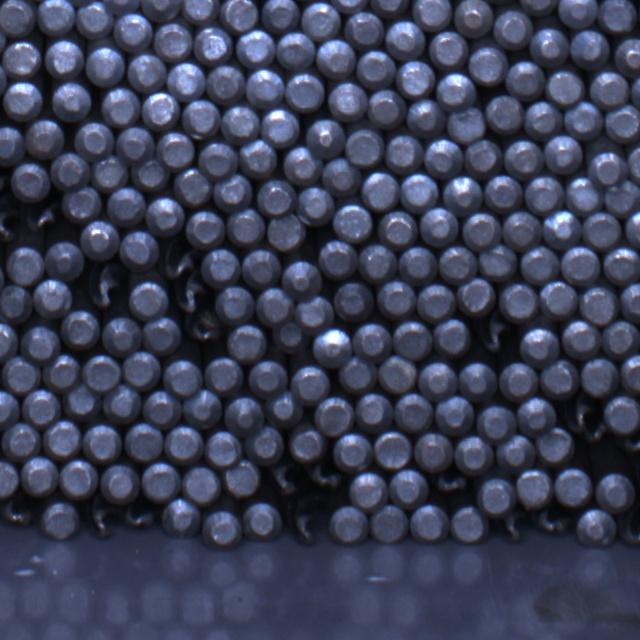tool: (571, 29, 612, 70), (20, 454, 60, 496), (280, 259, 322, 299), (560, 246, 600, 287), (142, 461, 182, 502), (99, 463, 139, 504), (24, 118, 64, 159), (101, 316, 142, 356), (312, 326, 352, 367), (418, 360, 458, 401), (335, 280, 375, 321), (52, 82, 93, 122), (441, 174, 482, 214), (506, 61, 546, 101), (106, 185, 146, 225), (578, 285, 618, 325), (154, 20, 194, 60), (504, 210, 544, 250), (80, 220, 120, 260), (529, 26, 569, 66), (282, 146, 322, 186), (82, 424, 122, 464), (226, 396, 266, 436), (129, 278, 169, 318), (228, 322, 268, 362), (121, 230, 161, 270), (330, 79, 370, 119), (392, 320, 432, 360), (419, 206, 459, 246), (333, 201, 373, 241), (385, 20, 425, 60), (524, 175, 564, 215), (362, 170, 402, 210), (378, 208, 418, 248), (414, 432, 454, 472), (76, 120, 116, 160), (500, 362, 540, 402), (86, 46, 126, 86), (60, 310, 100, 350), (409, 503, 449, 543), (11, 161, 51, 201), (2, 81, 42, 121), (437, 71, 477, 111), (540, 278, 580, 318), (388, 468, 428, 508), (200, 248, 240, 288), (454, 436, 494, 476), (435, 395, 475, 435), (519, 326, 559, 366), (45, 39, 85, 79), (323, 157, 363, 197), (577, 508, 617, 548), (424, 136, 463, 177), (458, 361, 497, 402), (306, 116, 344, 158), (519, 245, 559, 284), (579, 357, 618, 397), (162, 358, 202, 397), (396, 393, 435, 433), (122, 349, 162, 388), (83, 351, 123, 390), (402, 171, 441, 211), (302, 0, 342, 39), (261, 108, 300, 148), (314, 397, 354, 436), (43, 420, 82, 460), (386, 134, 425, 174), (469, 45, 508, 85), (345, 126, 384, 166), (187, 208, 227, 247), (500, 282, 540, 321), (541, 359, 580, 399), (505, 137, 544, 177), (485, 93, 524, 133), (368, 88, 407, 128), (457, 278, 497, 317), (495, 9, 534, 49), (544, 135, 583, 175), (350, 471, 389, 511), (564, 177, 604, 216), (184, 390, 224, 429), (183, 465, 222, 505), (356, 50, 395, 90), (206, 65, 245, 105), (377, 278, 416, 318), (352, 322, 391, 362), (563, 318, 602, 358), (244, 424, 283, 464), (41, 500, 80, 540), (334, 433, 374, 472), (236, 28, 276, 67), (318, 39, 358, 78), (430, 29, 470, 68), (161, 497, 201, 536), (515, 397, 555, 436), (248, 68, 286, 109), (554, 465, 592, 506), (212, 174, 253, 212), (596, 471, 634, 512), (61, 184, 102, 222), (291, 364, 330, 403), (124, 421, 163, 460), (181, 99, 220, 138), (164, 425, 203, 464), (463, 212, 502, 251), (3, 422, 42, 461), (115, 13, 154, 52), (127, 52, 166, 91), (42, 351, 81, 390), (373, 429, 412, 468), (408, 97, 447, 136), (223, 105, 262, 144), (440, 244, 479, 283), (524, 99, 563, 138), (285, 72, 324, 111), (34, 278, 73, 317), (101, 86, 140, 125), (202, 509, 241, 548), (60, 458, 98, 498), (46, 241, 84, 281), (242, 248, 280, 288), (377, 354, 417, 392), (195, 24, 233, 64), (565, 100, 605, 138), (590, 71, 630, 109), (477, 404, 517, 442), (276, 33, 316, 71), (51, 152, 91, 190), (20, 324, 60, 362), (354, 392, 392, 432), (267, 213, 307, 251), (243, 501, 280, 542), (398, 60, 437, 98), (258, 177, 297, 215), (358, 243, 397, 281), (417, 282, 456, 320), (168, 61, 206, 100), (142, 91, 180, 130), (104, 383, 142, 422), (148, 196, 186, 235), (228, 206, 266, 245), (298, 187, 336, 226), (6, 244, 44, 283), (1, 354, 40, 392), (476, 476, 514, 515), (370, 505, 409, 543), (433, 318, 471, 357), (144, 388, 182, 427), (319, 240, 358, 278), (534, 426, 573, 464), (544, 210, 582, 249), (173, 166, 212, 204), (399, 244, 437, 283), (62, 385, 101, 423), (224, 458, 262, 497), (199, 140, 239, 177), (117, 125, 157, 162), (483, 175, 523, 212), (516, 468, 552, 509), (144, 317, 182, 355), (92, 155, 130, 193), (157, 130, 195, 168), (239, 140, 277, 178), (464, 138, 502, 176), (21, 388, 59, 426), (216, 284, 254, 322), (602, 319, 640, 357), (330, 506, 368, 544), (603, 246, 640, 285), (583, 211, 622, 248), (446, 105, 485, 142), (547, 68, 586, 105), (248, 358, 287, 395), (204, 355, 243, 392), (450, 505, 487, 543), (2, 40, 40, 77), (257, 287, 294, 325), (266, 392, 304, 429), (455, 0, 494, 36), (479, 245, 518, 281), (589, 149, 628, 185), (496, 435, 535, 471), (344, 12, 384, 47), (206, 431, 244, 467), (604, 395, 640, 433), (339, 355, 377, 391), (605, 103, 640, 142), (78, 0, 115, 36), (37, 0, 76, 34), (606, 179, 640, 218), (293, 293, 332, 327), (288, 428, 325, 463), (131, 158, 169, 192), (411, 0, 453, 30), (0, 0, 35, 36), (598, 0, 637, 32), (0, 283, 32, 322), (272, 322, 308, 356), (222, 0, 261, 31), (263, 0, 301, 31), (558, 0, 598, 28), (615, 36, 640, 77), (0, 123, 24, 165), (183, 0, 221, 23), (620, 352, 640, 394), (620, 282, 640, 323), (0, 390, 20, 430), (140, 0, 181, 19), (0, 458, 19, 496), (0, 322, 18, 362), (371, 0, 411, 16), (518, 0, 559, 15), (624, 209, 640, 247), (102, 0, 142, 14), (628, 142, 640, 185), (330, 0, 372, 12), (631, 72, 640, 111), (0, 59, 7, 99), (0, 25, 6, 57)
tool_b: (284, 496, 329, 547), (84, 262, 126, 310), (171, 272, 209, 313), (476, 318, 514, 355), (82, 503, 120, 540), (159, 245, 197, 280), (429, 468, 469, 500), (577, 406, 609, 446), (266, 462, 302, 497), (563, 399, 598, 434), (24, 200, 60, 234), (535, 507, 574, 538), (186, 310, 220, 345), (307, 460, 343, 492), (0, 498, 34, 530), (123, 502, 159, 532), (0, 197, 21, 242), (620, 506, 640, 551), (498, 512, 526, 544), (621, 428, 640, 458)
